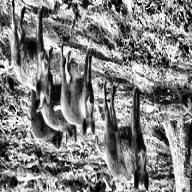boar: (103, 83, 158, 183), (9, 10, 52, 98), (57, 58, 110, 129), (43, 85, 79, 136)
